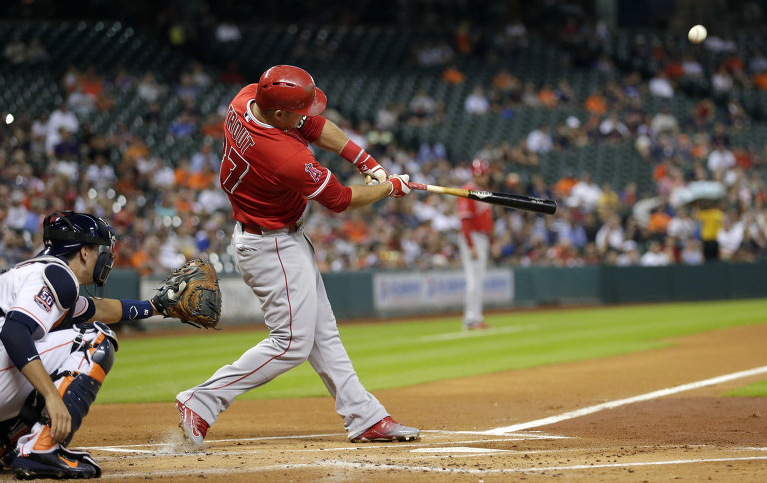ball: (686, 22, 708, 44)
